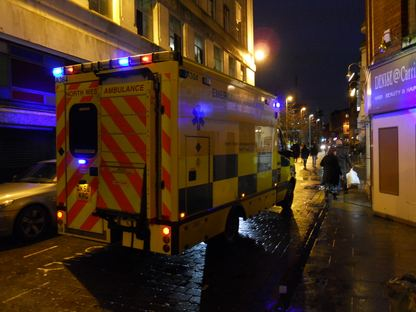ambulance: (55, 50, 299, 257)
car: (0, 159, 58, 242)
